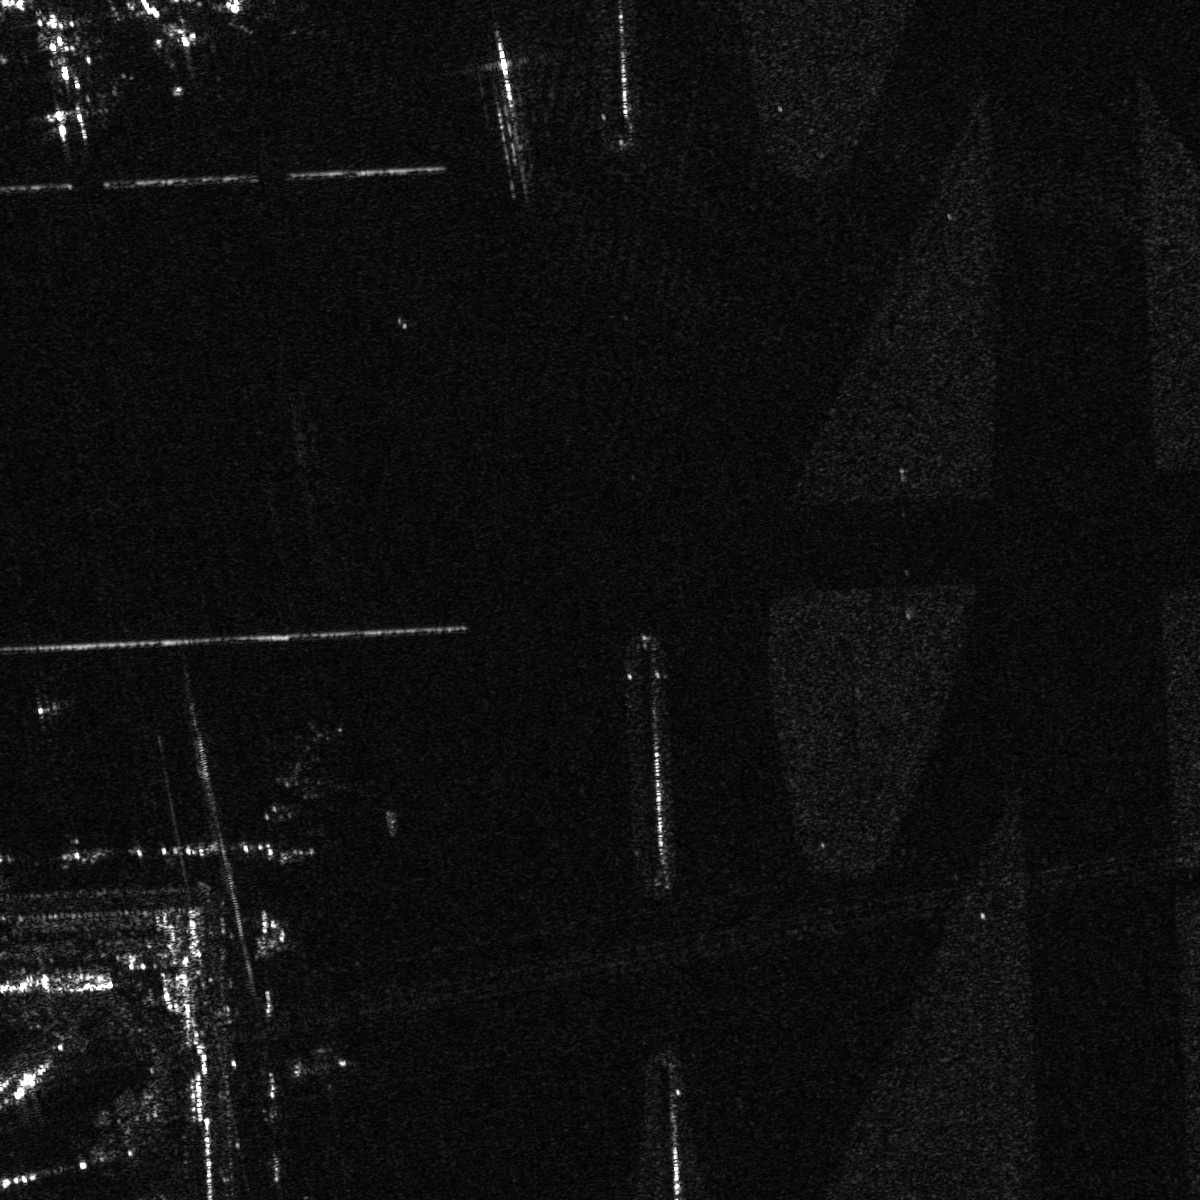A220: (279, 1027, 357, 1092)
